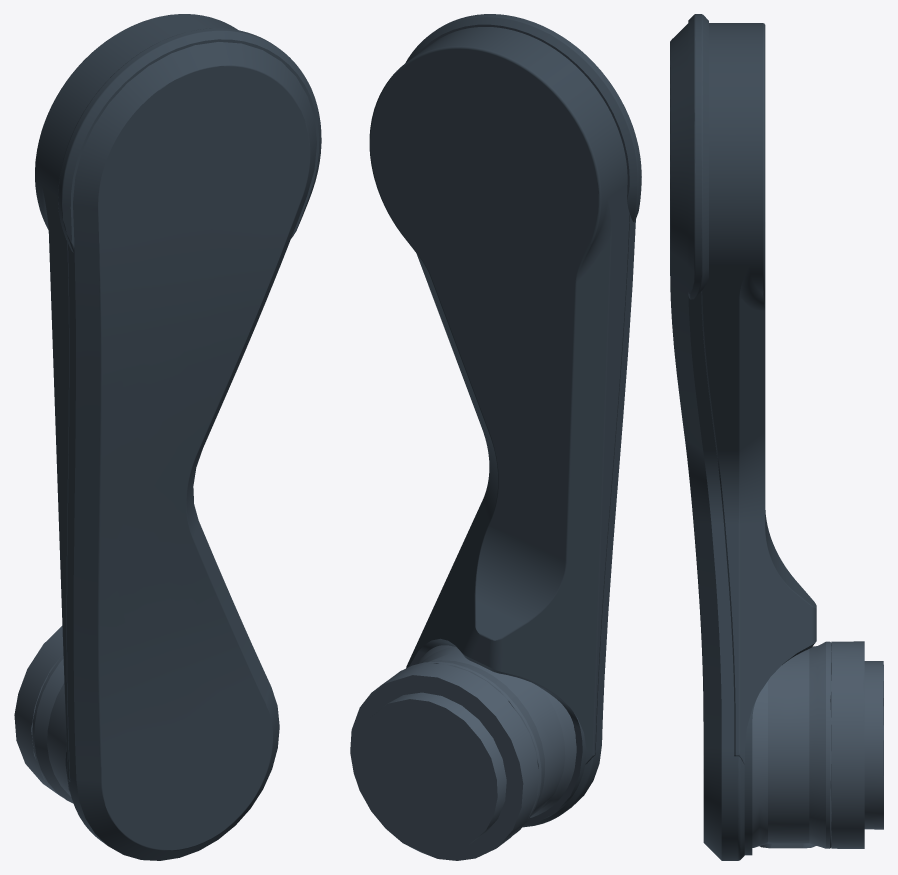
The model's file is hl_knee.dae.
The picture shows the model from 3 angles, left to right: view 1: azimuth 30°, elevation 25°; view 2: azimuth 150°, elevation 25°; view 3: azimuth 270°, elevation 25°; orthographic projection. The views are drawn at different scales.
Parts seen in each view (by area): view 1: 圆角1, 移动面10, 切除-拉伸49, 圆角16; view 2: 移动面10, 圆角16, 圆角1, 切除-拉伸49; view 3: 移动面10, 圆角1, 切除-拉伸49, 圆角16.
Part boxes in pixels (x1,y1,x2,y2): 圆角1: (58, 28, 321, 860); 移动面10: (35, 14, 238, 791); 切除-拉伸49: (32, 654, 73, 803); 圆角16: (14, 626, 63, 797); 移动面10: (369, 27, 629, 825); 圆角16: (350, 663, 538, 860); 圆角1: (405, 14, 641, 827); 切除-拉伸49: (390, 645, 576, 834); 移动面10: (701, 23, 816, 855); 圆角1: (670, 14, 744, 860); 切除-拉伸49: (752, 641, 831, 848); 圆角16: (831, 641, 883, 848).
Size of the model in its own units: 115 by 83.13 by 352.
